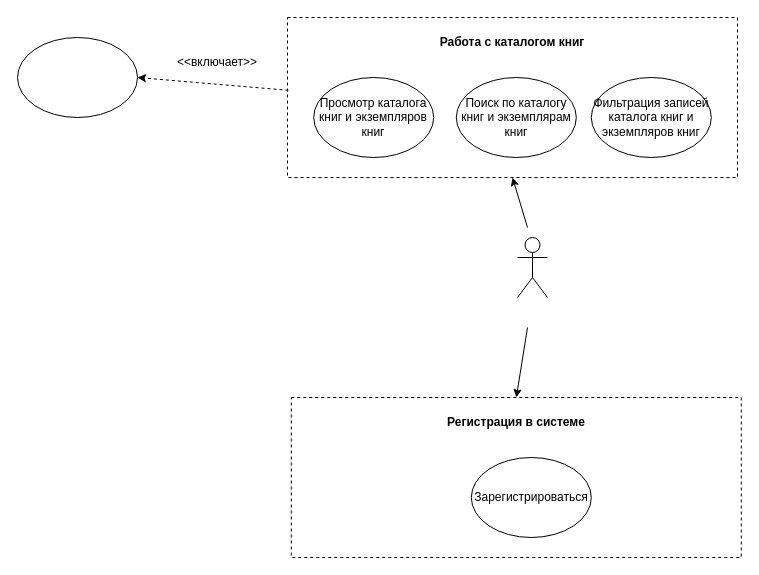
This 759x575 diagram has some shape labels left out. Each missing label, with the centre of its shape:
НЕ зарегистрированный читатель: point 532,267
Упрощённая выгрузка списков в Excel для анализа: point 77,77
